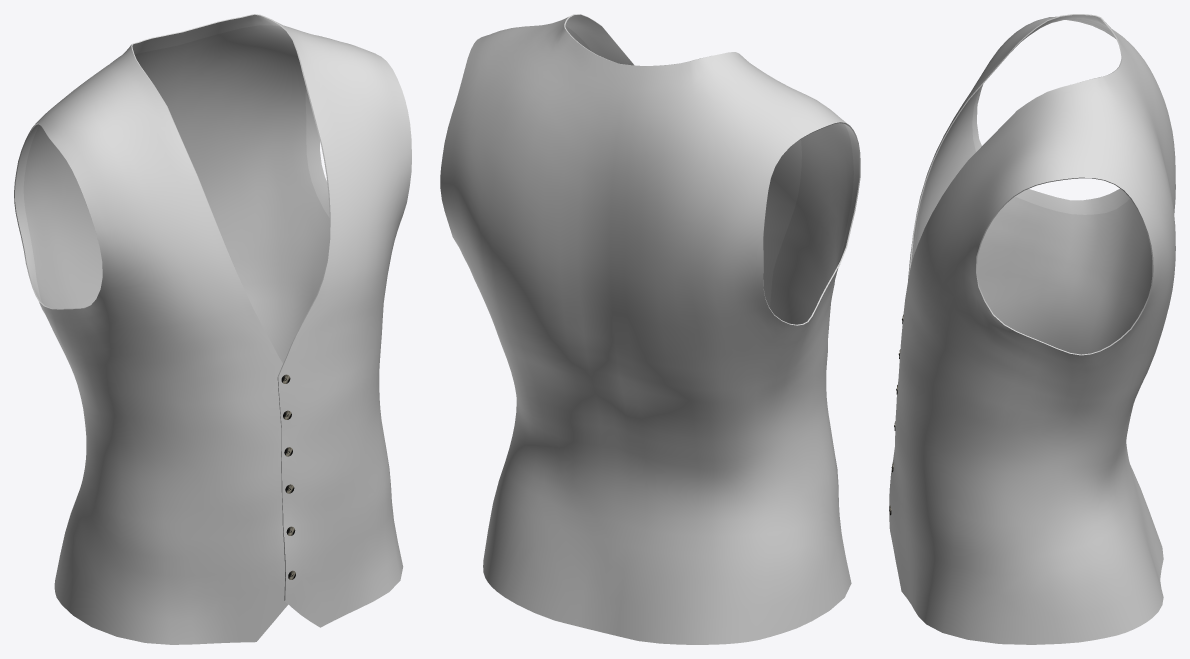
Rendered from SM_CarlosSA_Waistcoat_FrontButtons_SB6NoLapel.fbx.
3 renders of one model, left to right at view 1: azimuth 30°, elevation 25°; view 2: azimuth 150°, elevation 25°; view 3: azimuth 270°, elevation 25°, orthographic. The views are drawn at different scales.
Parts seen in each view (by area): view 1: SM_CarlosSA_Waistcoat_FrontButtons_SB6NoLapel; view 2: SM_CarlosSA_Waistcoat_FrontButtons_SB6NoLapel; view 3: SM_CarlosSA_Waistcoat_FrontButtons_SB6NoLapel.
Part boxes in pixels (<box>): SM_CarlosSA_Waistcoat_FrontButtons_SB6NoLapel: <box>14,14,411,644</box>; SM_CarlosSA_Waistcoat_FrontButtons_SB6NoLapel: <box>440,14,860,644</box>; SM_CarlosSA_Waistcoat_FrontButtons_SB6NoLapel: <box>889,14,1175,644</box>.
Size of the model in its own units: 0.3797 by 0.5809 by 0.2829.
